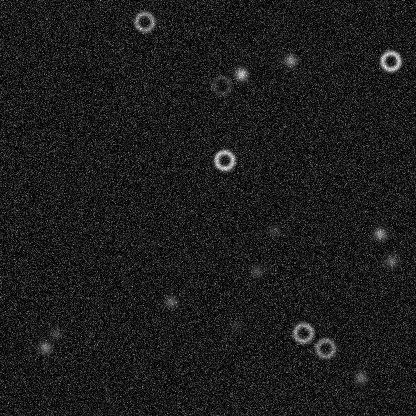Ring: (132, 9, 156, 33), (209, 73, 233, 97), (378, 48, 402, 72), (212, 148, 236, 172), (313, 336, 337, 360), (290, 320, 314, 344)
Spot: (248, 263, 264, 279), (383, 253, 399, 269), (162, 293, 178, 309), (282, 52, 298, 68), (47, 325, 63, 341), (371, 225, 387, 241), (352, 369, 368, 385), (37, 339, 53, 355), (233, 65, 249, 81), (266, 222, 282, 238), (228, 316, 244, 332)
